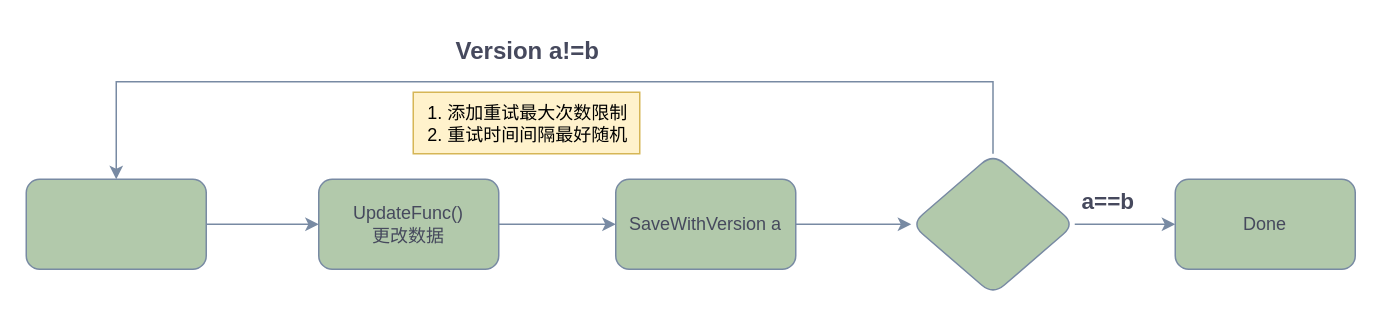
Some shapes in this 1382 by 321 pixel diagram are drawn without their labels. Each missing label, with the centre of its shape:
"CAS Version a==b?" goes at point (992, 223).
"LoadOrCreateData Version a" goes at point (115, 223).
